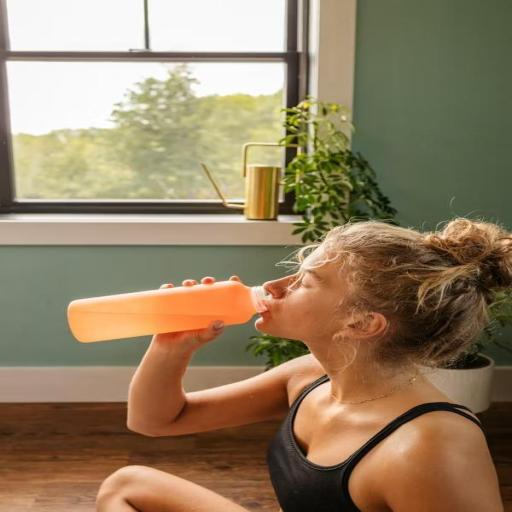bottle: (63, 279, 278, 346)
